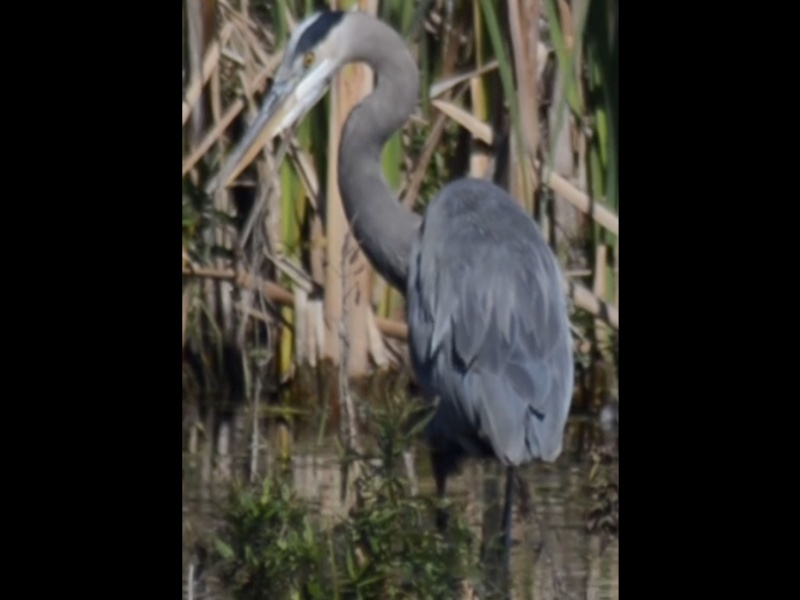heron: (223, 14, 578, 520)
